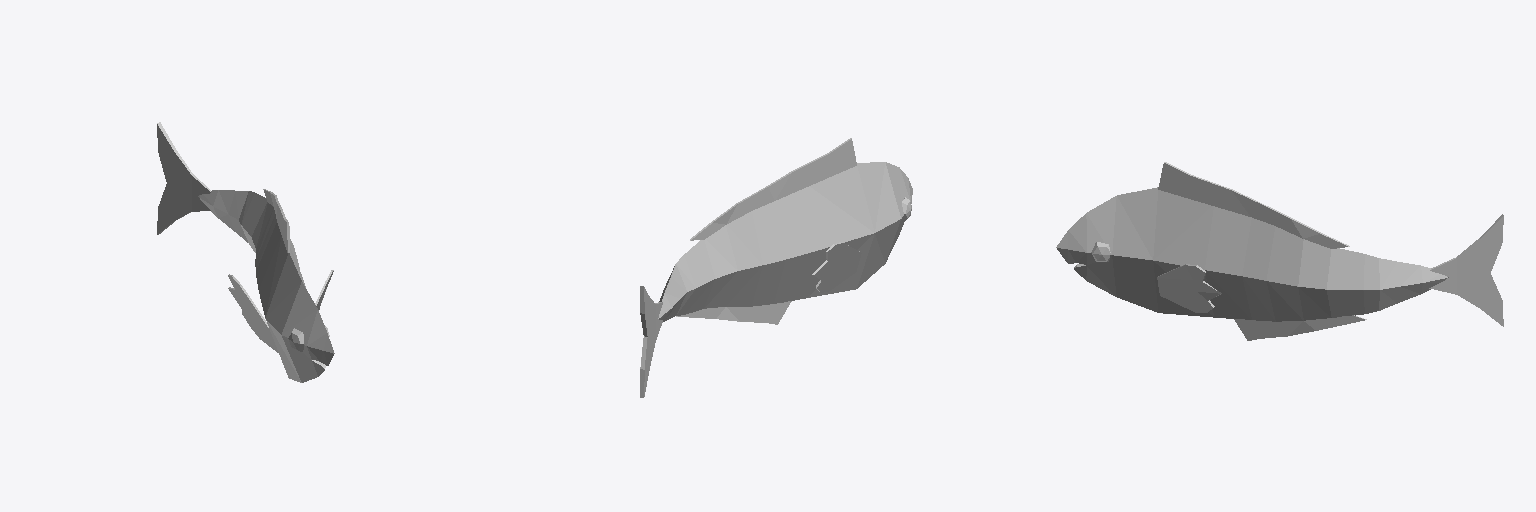
The model's file is FishRight.obj.
3 renders of one model, left to right at view 1: azimuth 30°, elevation 25°; view 2: azimuth 150°, elevation 25°; view 3: azimuth 270°, elevation 25°, orthographic.
Visible parts, largest first — view 1: Plane.002_Plane.007; view 2: Plane.002_Plane.007; view 3: Plane.002_Plane.007.
Boxes of the visible parts, x1,y1,x2,y2 form: Plane.002_Plane.007: [157, 122, 334, 382]; Plane.002_Plane.007: [640, 138, 912, 397]; Plane.002_Plane.007: [1056, 162, 1503, 340].
Bounding box in the file's own units: 2.15 × 3.12 × 7.73.